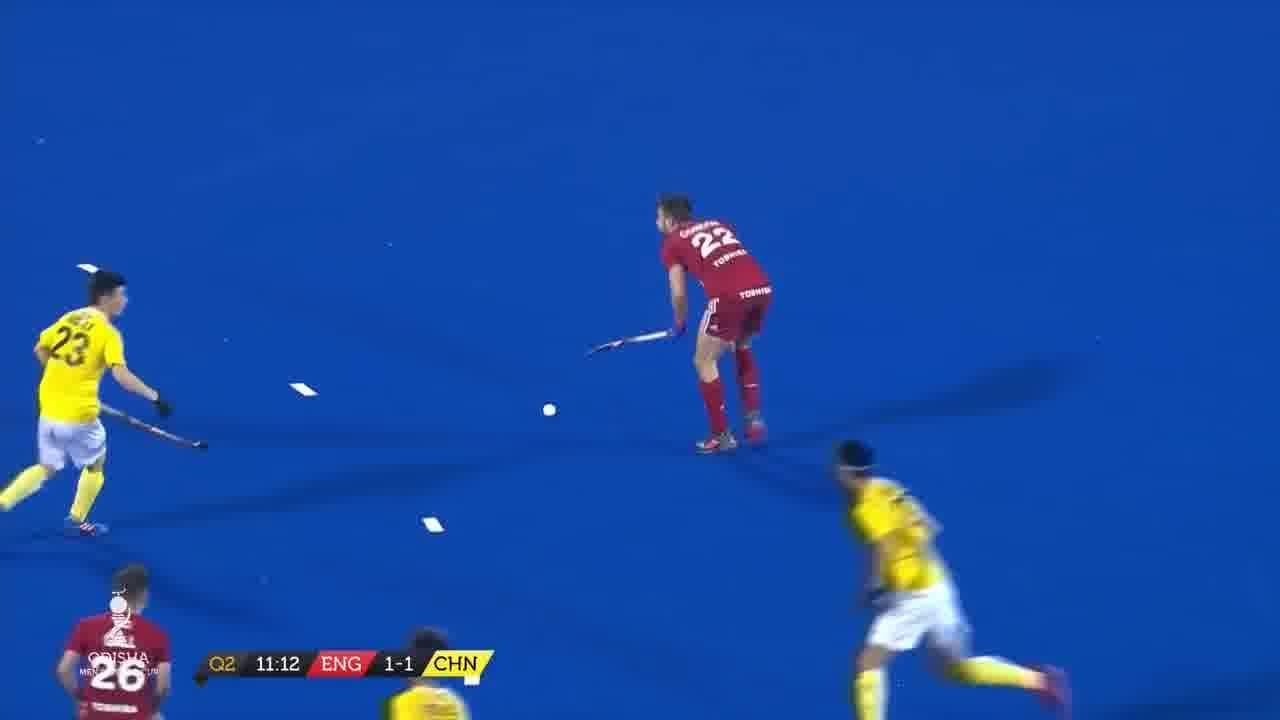ball: (542, 402, 562, 426)
